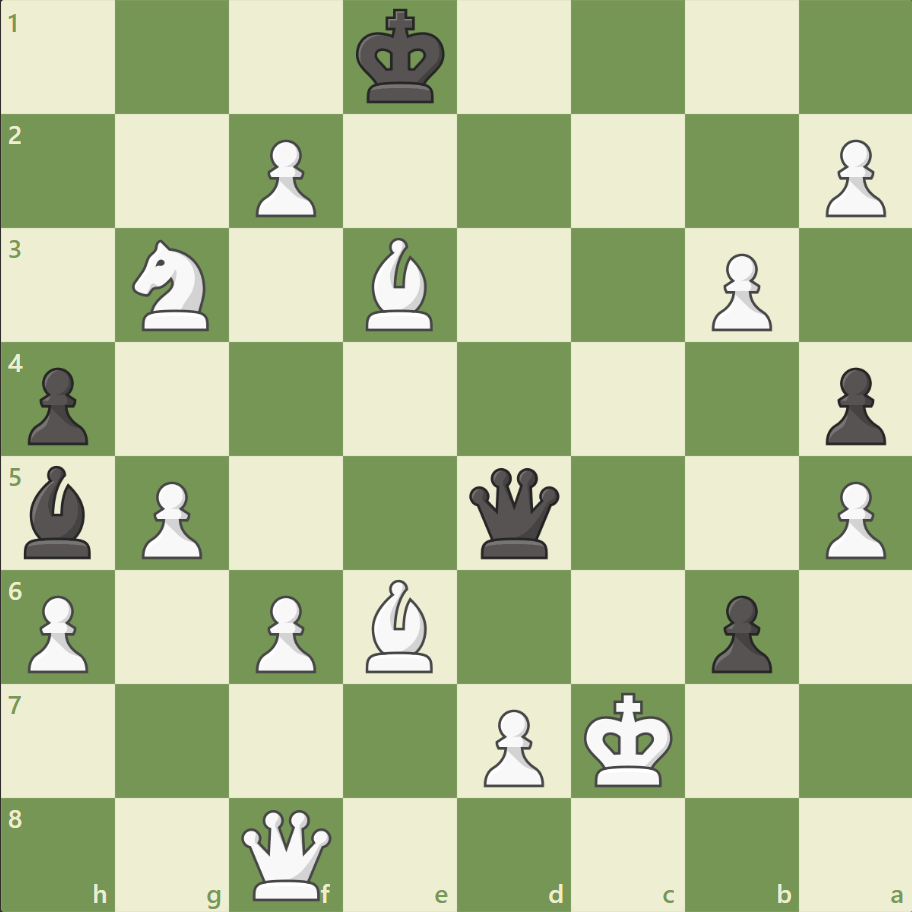B: (358, 233, 442, 336), (358, 574, 442, 676)
K: (579, 685, 679, 793)
N: (124, 234, 222, 337)
P: (474, 700, 549, 791), (247, 586, 322, 677), (20, 586, 95, 677), (133, 473, 208, 564), (701, 246, 776, 337), (247, 132, 322, 223), (815, 473, 889, 564), (815, 132, 889, 223)
Q: (237, 804, 336, 903)
b: (17, 460, 101, 563)
k: (351, 4, 451, 112)
p: (701, 586, 776, 677), (20, 359, 95, 450), (815, 359, 889, 450)
q: (464, 463, 563, 562)
